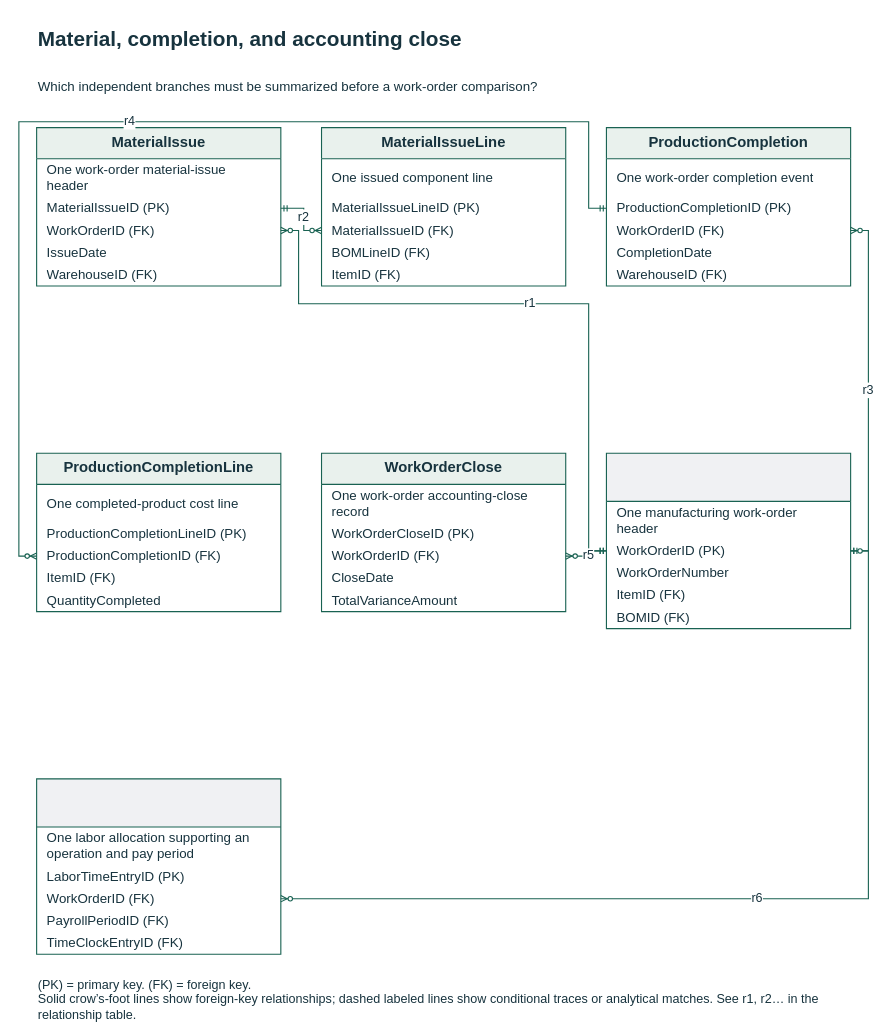
The diagram is 889 pixels wide and 1035 high, and some of its shapes have lost their labels. Here are the shapes that lost their labels. From the top down, the box of each, then its label:
(606, 452, 851, 629): WorkOrder Shared reference
(36, 778, 281, 954): LaborTimeEntry Shared reference
